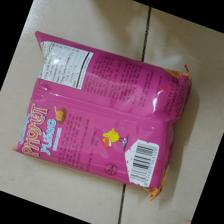Oishi_phomat: (16, 30, 196, 203)
